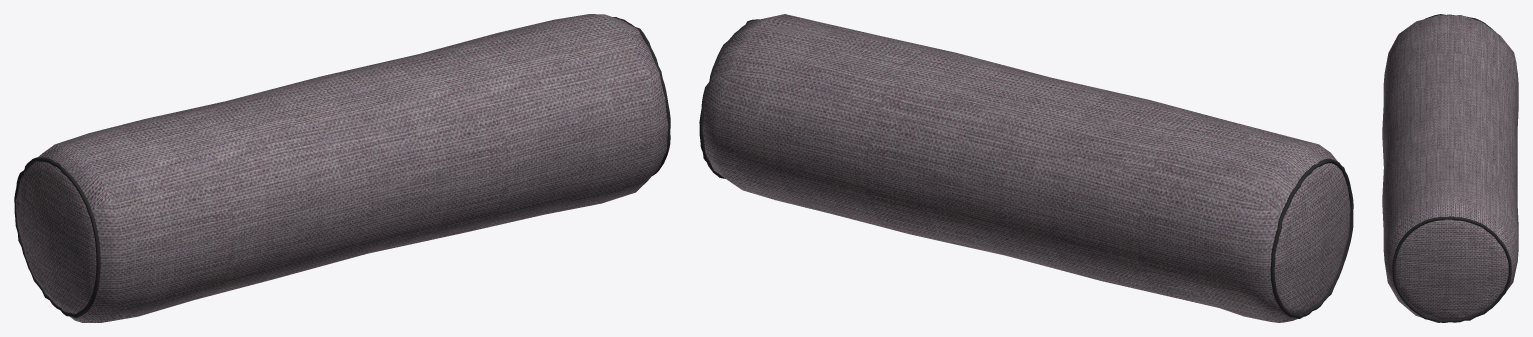
Rendered from pillow.gltf.
3 renders of one model, left to right at view 1: azimuth 30°, elevation 25°; view 2: azimuth 150°, elevation 25°; view 3: azimuth 270°, elevation 25°, orthographic. The views are drawn at different scales.
Visible parts, largest first — view 1: pillow; view 2: pillow; view 3: pillow.
Part boxes in pixels (left/top/right/bottom): pillow: left=14, top=14, right=670, bottom=322; pillow: left=699, top=14, right=1353, bottom=322; pillow: left=1382, top=14, right=1518, bottom=322.
Bounding box in the file's own units: 0.7258 × 0.1983 × 0.2012.
Materials: 2 (1 with a texture image).
